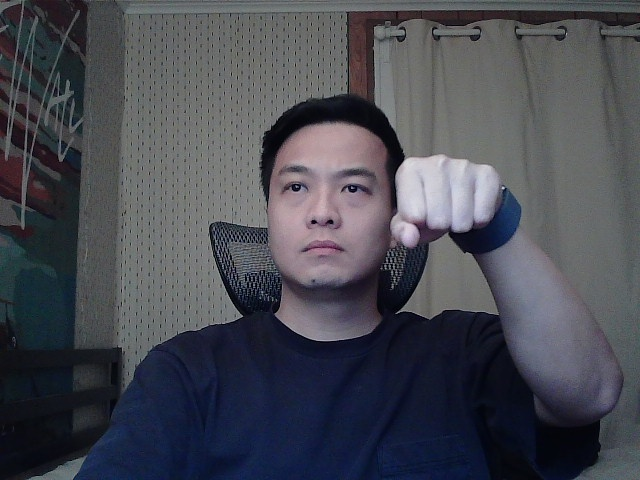Yes: (365, 132, 530, 273)
